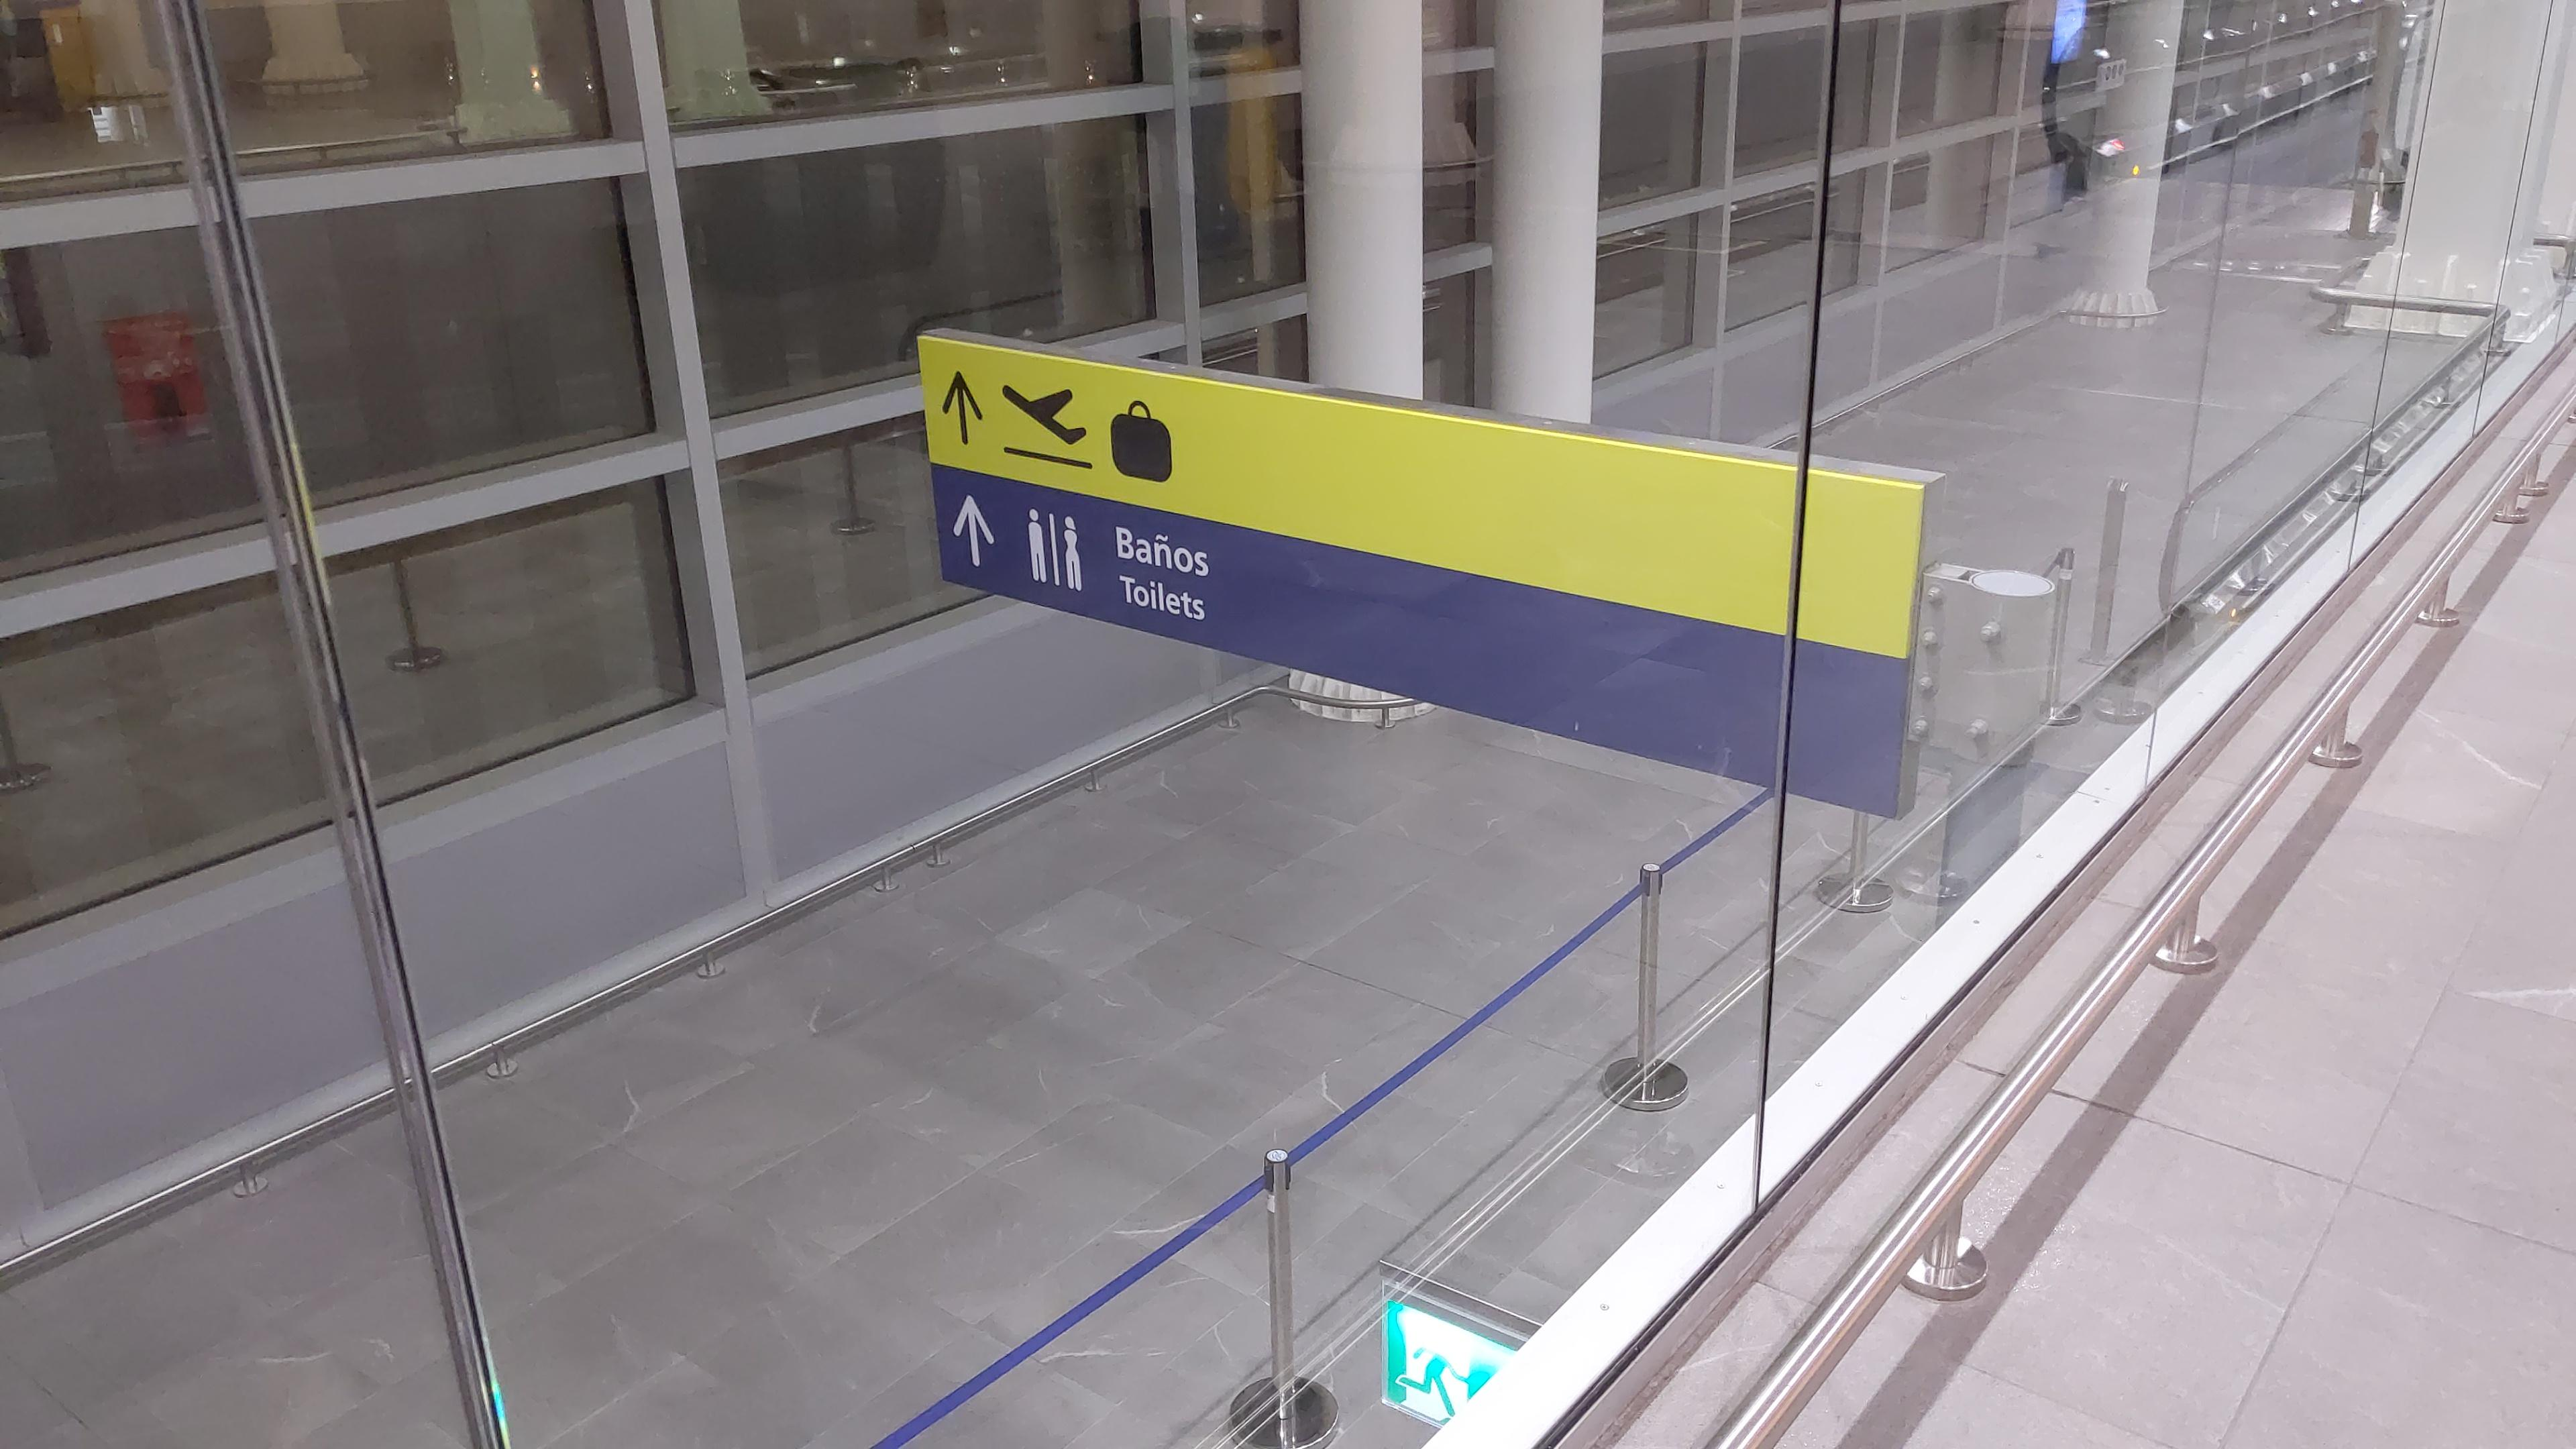airplane symbol: (998, 379, 1090, 446)
baggage claim: (1109, 395, 1177, 487)
bathrooms: (1024, 499, 1088, 596)
thin up arrow: (939, 368, 985, 448), (952, 487, 994, 571)
